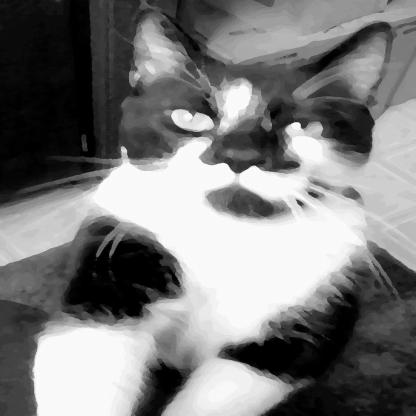cat: (49, 2, 393, 409)
